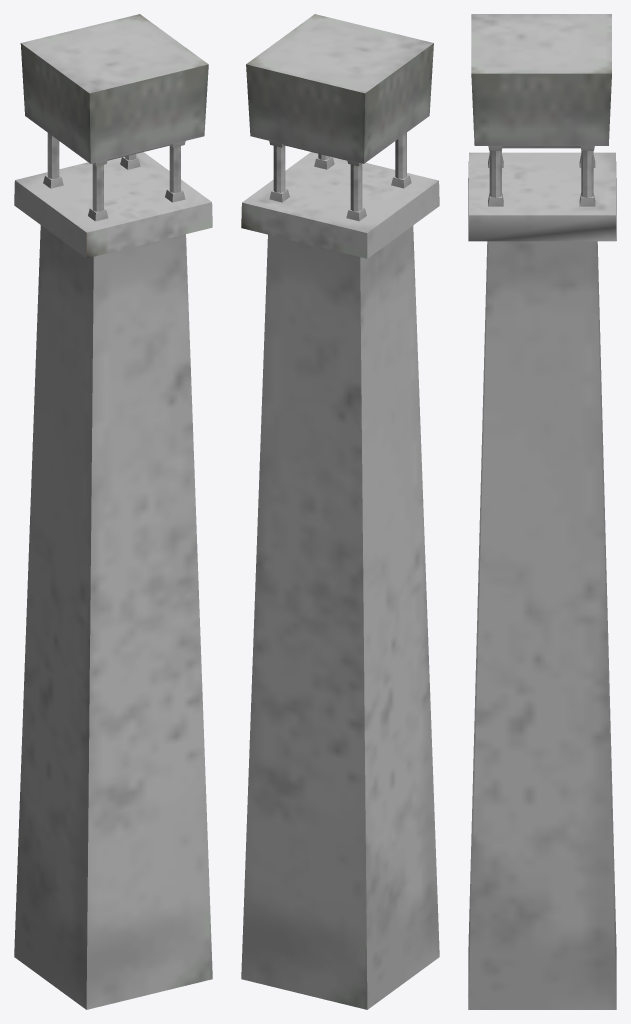
The model's file is general_obj_stonepillar_02.fbx.
3 renders of one model, left to right at view 1: azimuth 30°, elevation 25°; view 2: azimuth 150°, elevation 25°; view 3: azimuth 270°, elevation 25°, orthographic. The views are drawn at different scales.
Parts seen in each view (by area): view 1: Object08; view 2: Object08; view 3: Object08.
Boxes of the visible parts, box(x1,y1,x2,y2) form: Object08: box(14, 14, 212, 1009); Object08: box(241, 14, 439, 1009); Object08: box(468, 14, 616, 1009).
Size of the model in its own units: 0.8048 by 5.57 by 0.7989.
